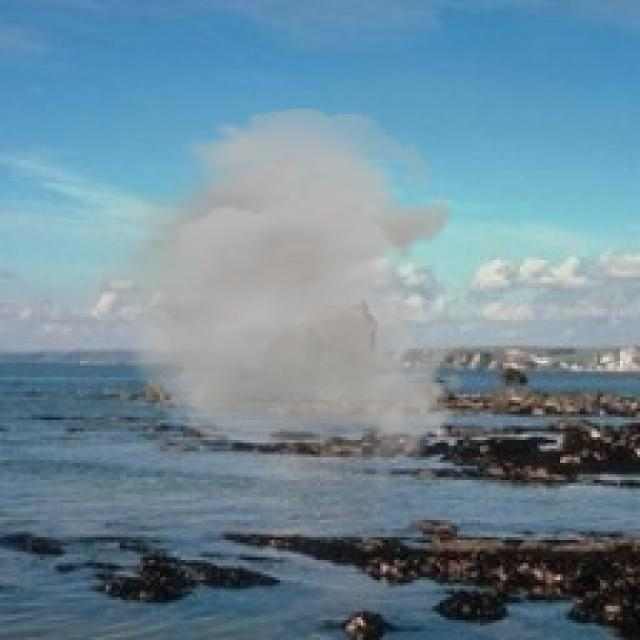Smoke: (77, 108, 466, 463)
